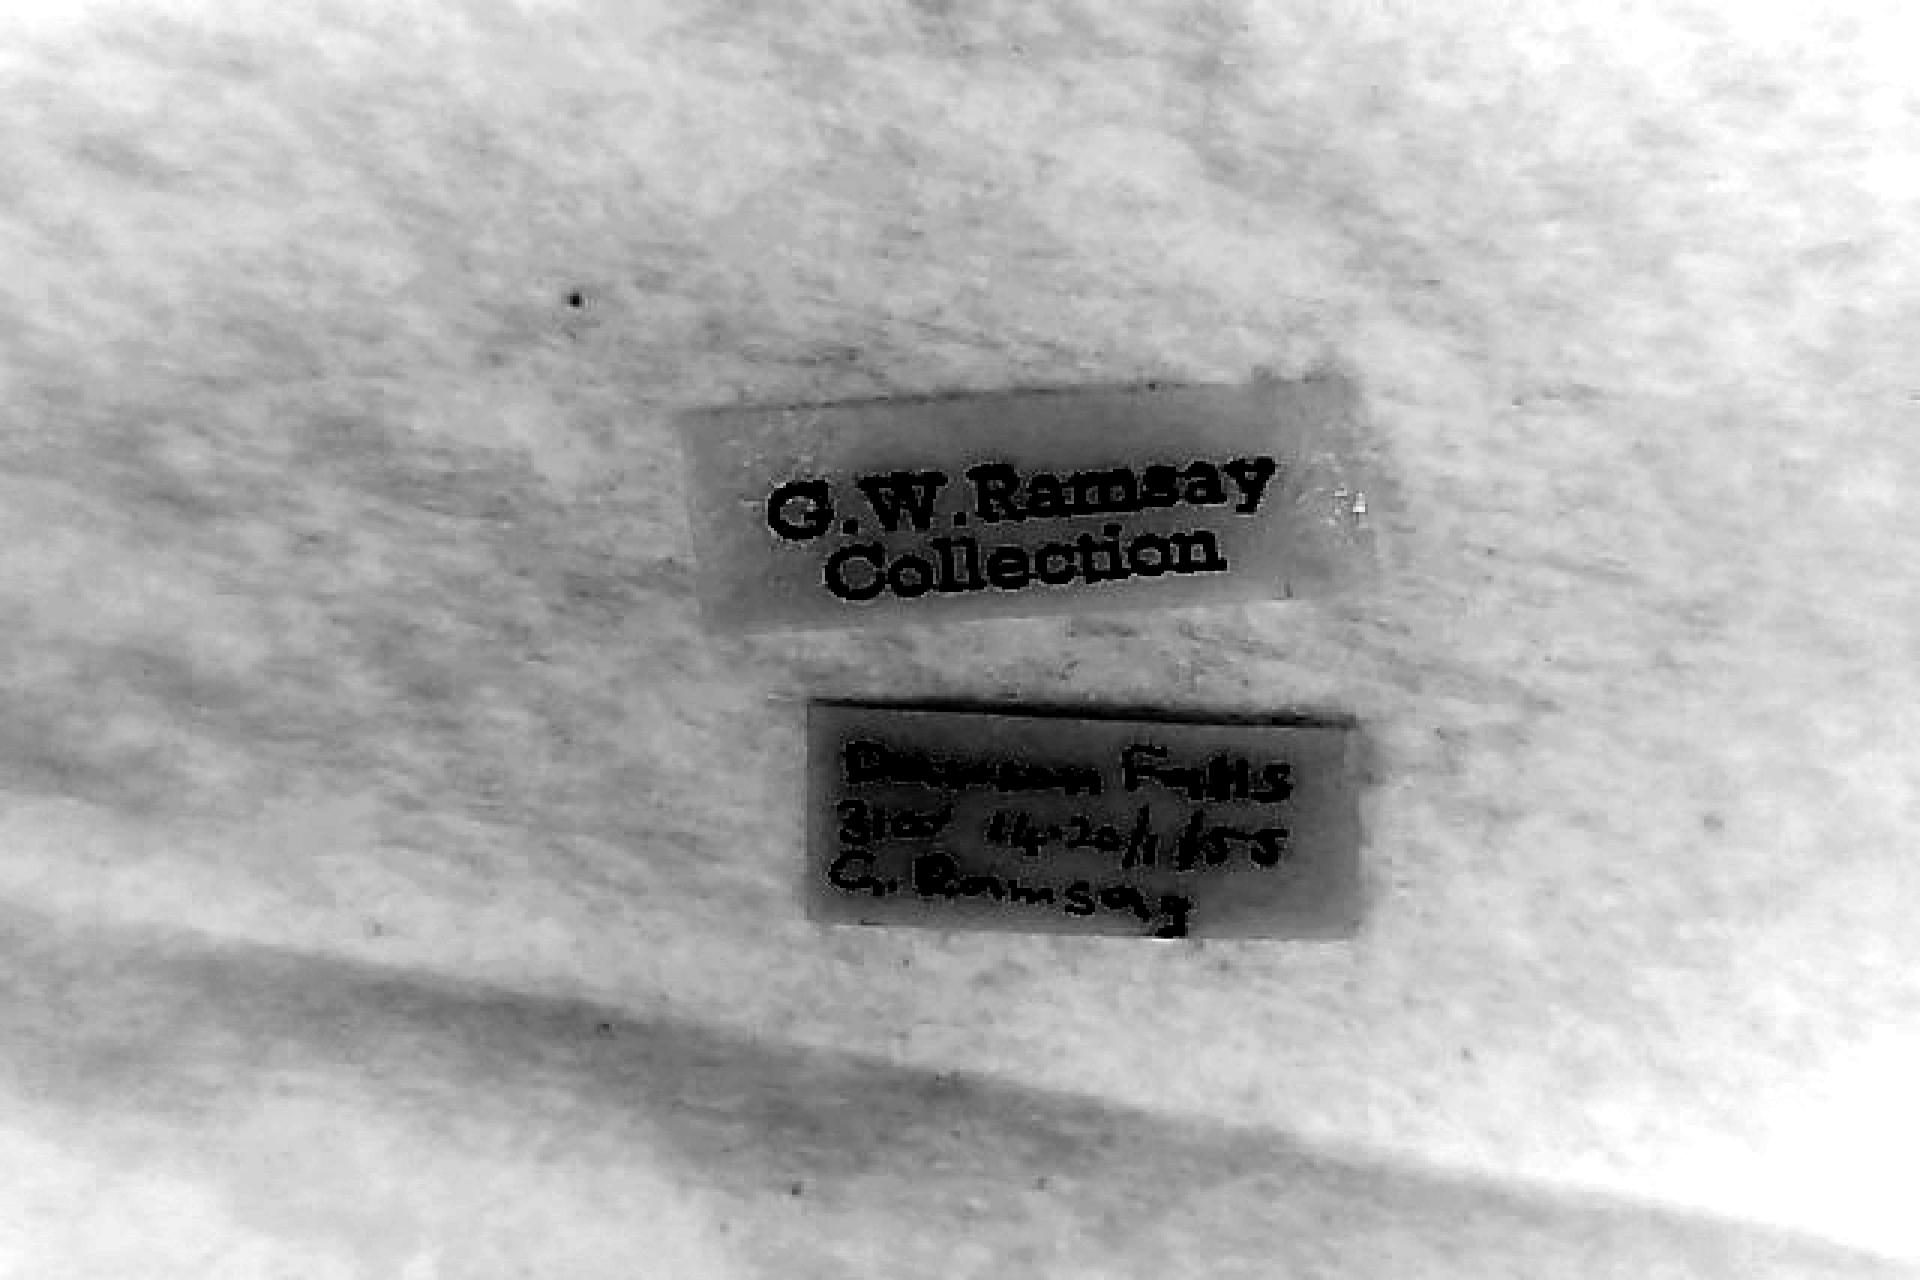hand_label: (806, 708, 1361, 938)
typed_label: (686, 380, 1369, 632)
